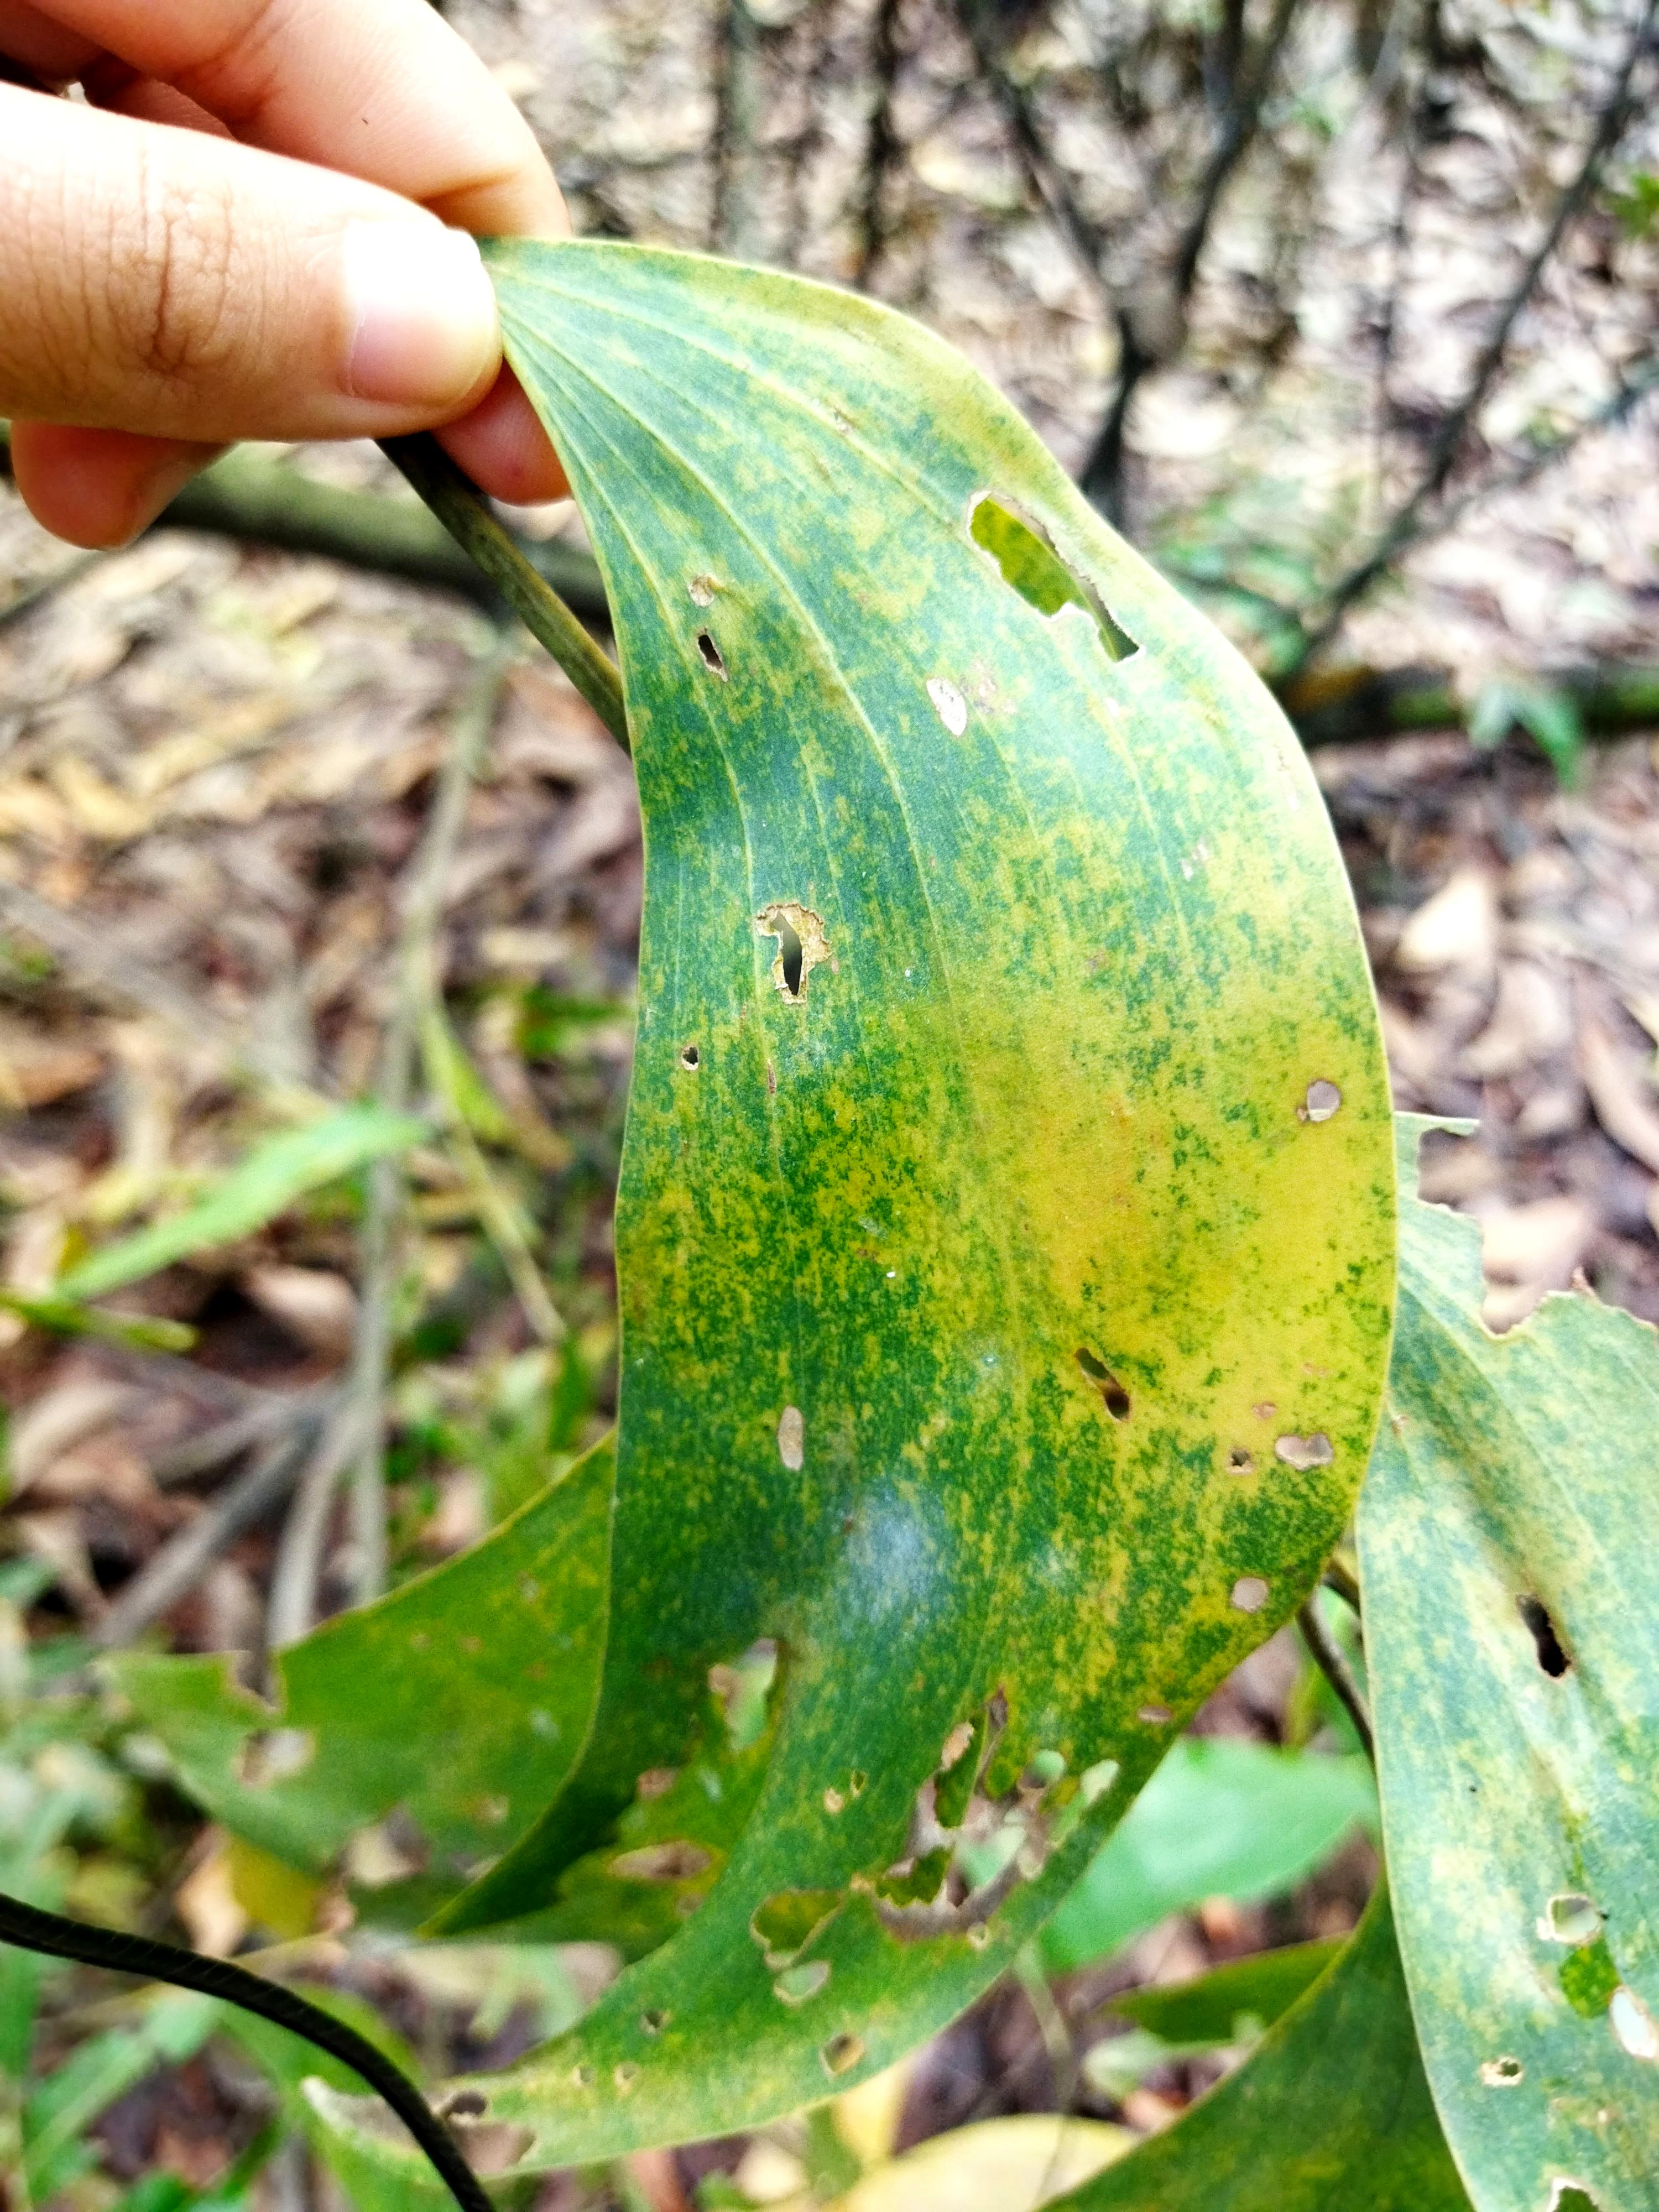Xanthomonas: (554, 294, 1429, 1676)
